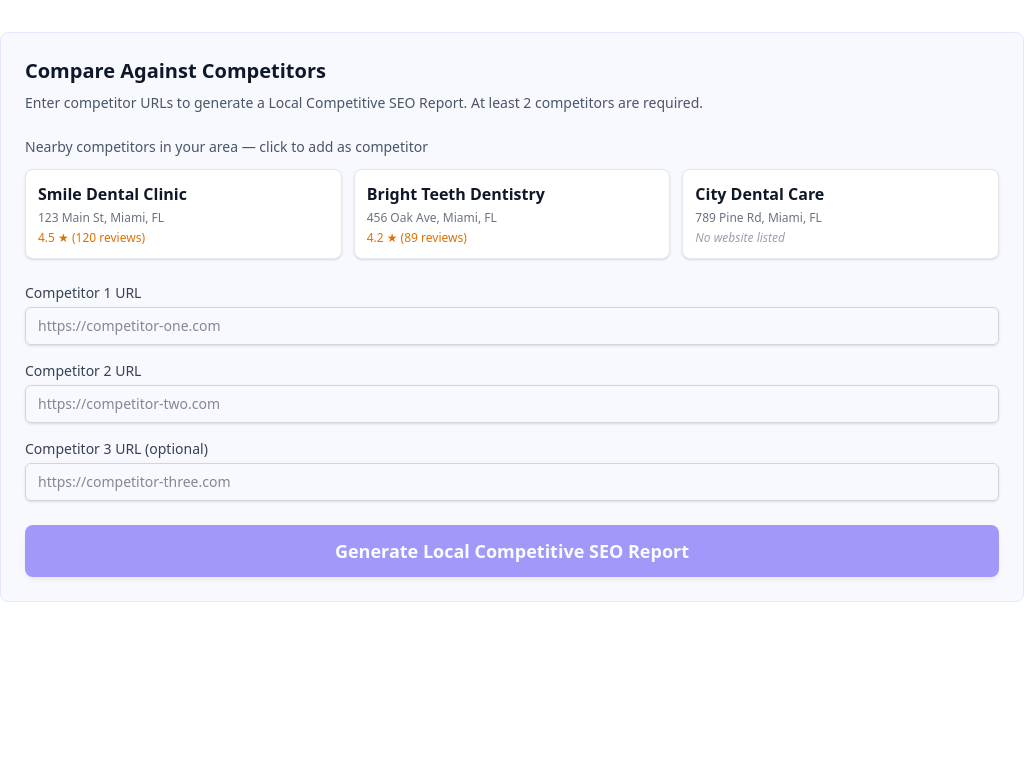
it: Click Suggestion to Fill URL (CHG-012) › fills the first empty competitor URL input when clicking a suggestion with website_url
Click on "Smile Dental Clinic" which has a website_url
Click the button "Smile Dental Clinic". click: [112, 194]
box: [25,169,342,259]
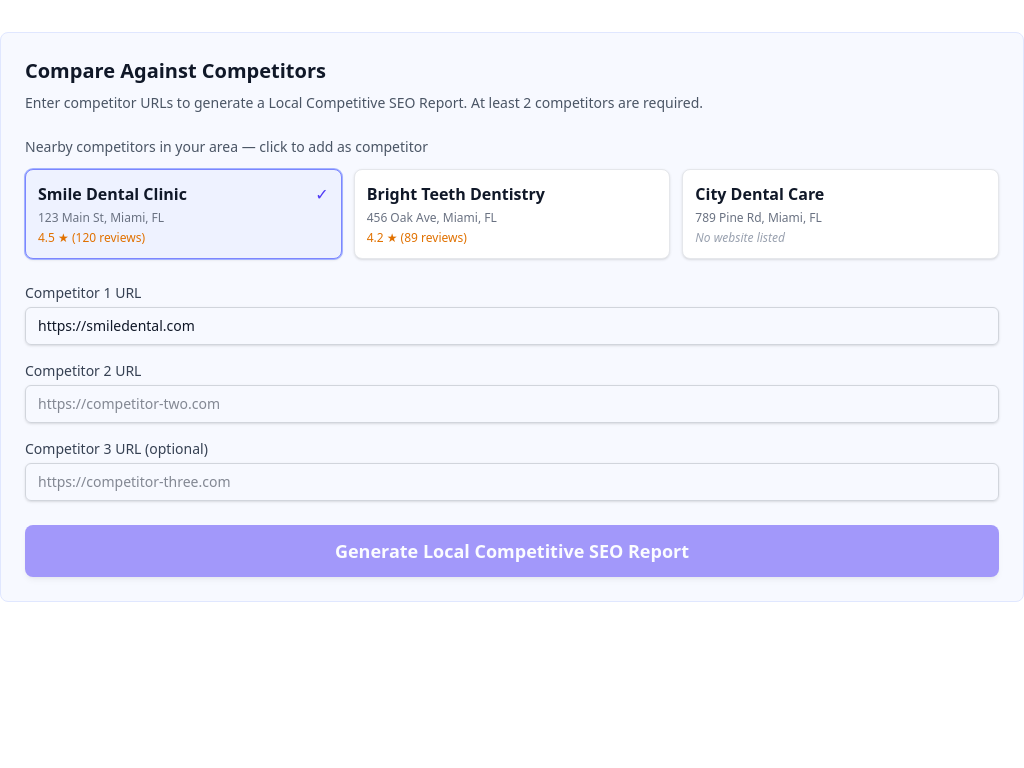
Result: the field labelled "Competitor 1 URL" holds "https://smiledental.com" at [25,307,999,345]
